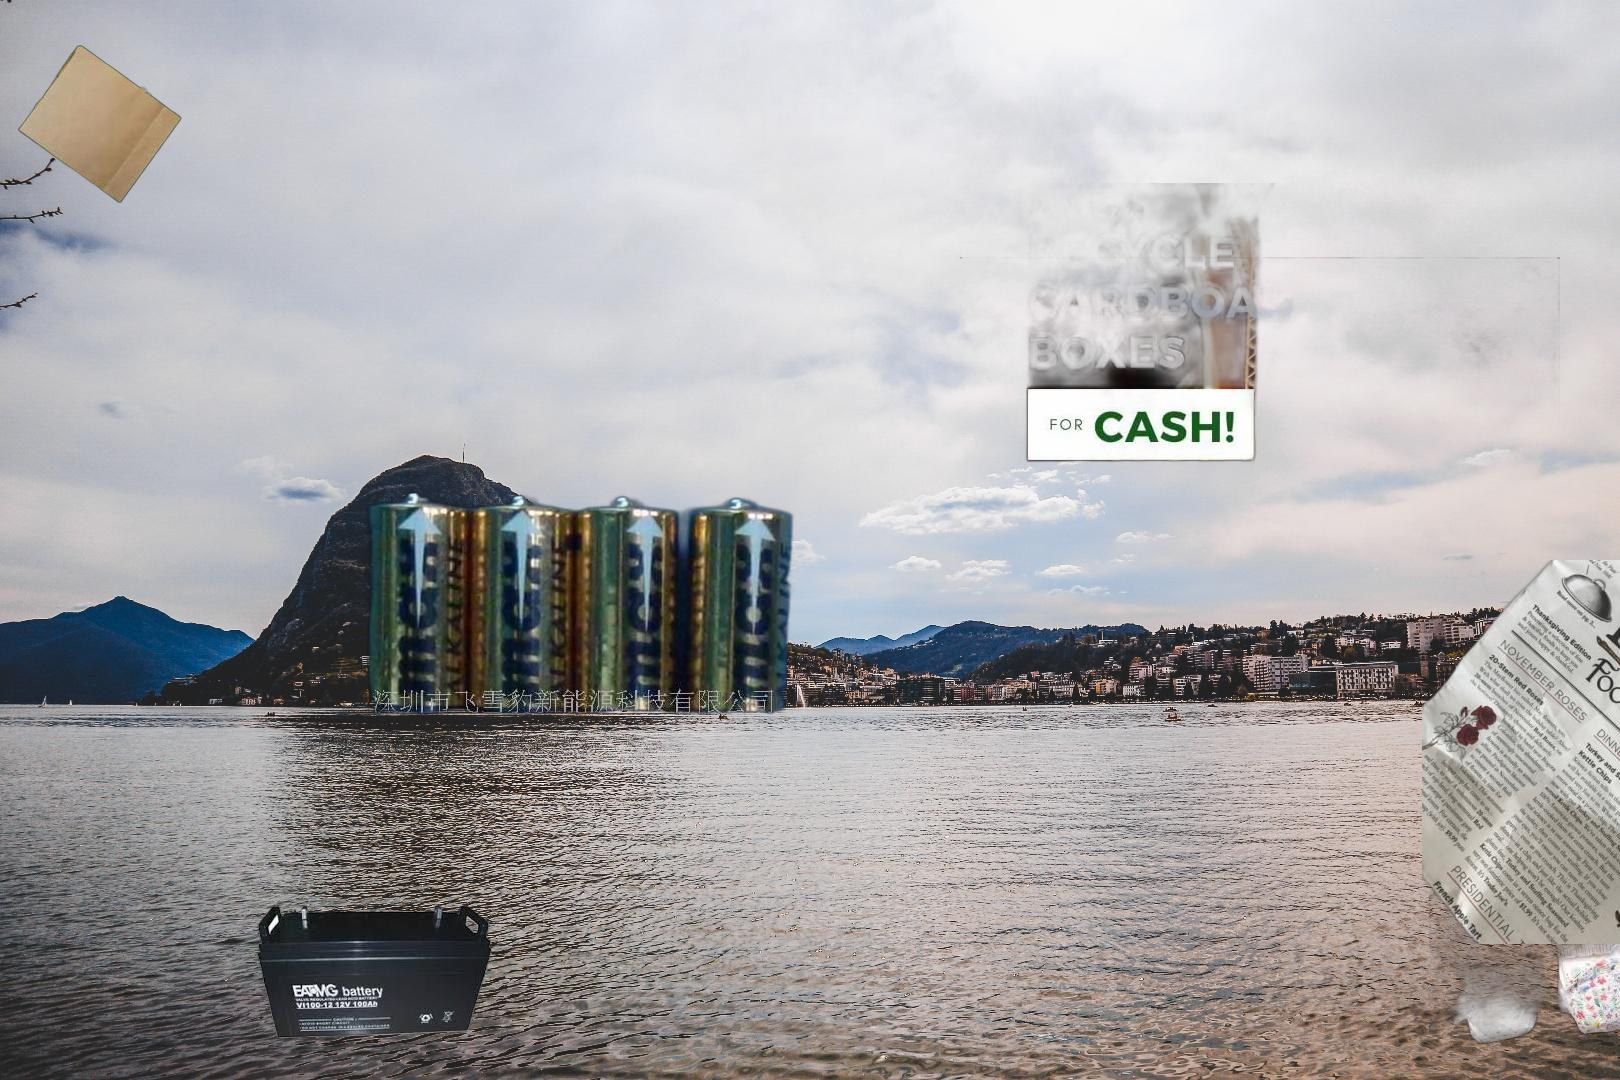battery: (363, 488, 796, 718), (256, 903, 493, 1041)
paper: (1422, 560, 1620, 944)
paper-bag: (16, 45, 183, 204)
trash: (1430, 867, 1620, 1050)
trashbox-cardboard: (959, 257, 1560, 657), (1012, 183, 1346, 541)
